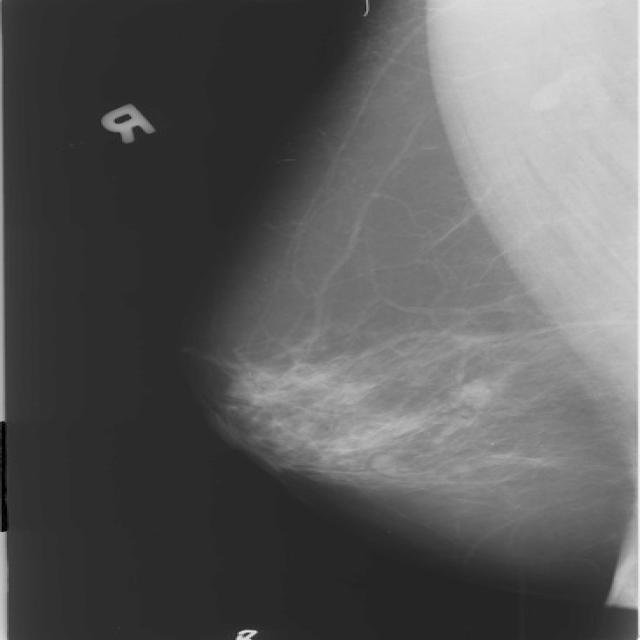tumour: (455, 378, 492, 406)
